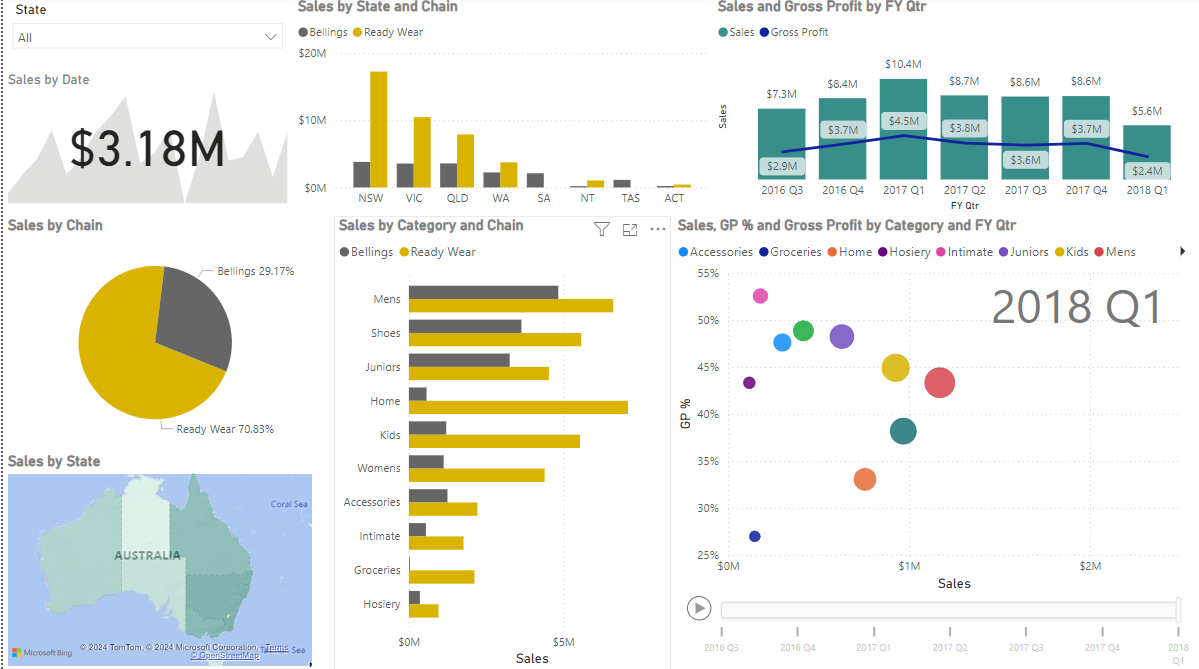

The page's visual inventory and layout, read from the dashboard file:
{"tool":"powerbi","page":{"name":"Summary","canvas":[1280,720],"ordinal":0},"visuals":[{"type":"kpi","fields":{"Indicator":["Sum(Sales.Sales)"],"TrendLine":["Dates.Date"]},"box":[0,80.6,309,145.1],"z":0},{"type":"clusteredColumnChart","fields":{"Y":["Sum(Sales.Sales)"],"Category":["Regions.State"],"Series":["Sales.Chain"]},"box":[309.3,0,449.4,233.4],"z":1000},{"type":"lineClusteredColumnComboChart","fields":{"Category":["Dates.FY Qtr"],"Y":["Sum(Sales.Sales)"],"Y2":["Sum(Sales.Gross Profit)"]},"box":[758.5,0,521.3,233.9],"z":2000},{"type":"pieChart","fields":{"Y":["Sum(Sales.Sales)"],"Category":["Sales.Chain"]},"box":[0,233.7,325.1,252.5],"z":3000},{"type":"filledMap","title":"Sales by State","fields":{"Category":["Regions.State_Country"]},"box":[0,486.3,334.9,233.7],"z":4000},{"type":"clusteredBarChart","fields":{"Y":["Sum(Sales.Sales)"],"Category":["Sales.Category"],"Series":["Sales.Chain"]},"box":[353.1,233.4,360.9,486.3],"z":5000},{"type":"scatterChart","fields":{"X":["Sum(Sales.Sales)"],"Y":["Sales.GF %"],"Series":["Sales.Category"],"Size":["Sum(Sales.Gross Profit)"],"Play":["Dates.FY Qtr"]},"box":[715.9,233.4,564.1,485.3],"z":6000},{"type":"slicer","fields":{"Values":["Regions.State"]},"box":[0,0,309,80.6],"z":7000}]}

Visuals, with their boxes in screenshot pixels (x1, y1, x2, y2), scaled from the page's 1280x720 canvas onto the 1199x669 screenshot:
kpi - Sum(Sales.Sales) x Dates.Date: detection(0, 75, 289, 210)
clusteredColumnChart - Sum(Sales.Sales) x Regions.State: detection(290, 0, 711, 217)
lineClusteredColumnComboChart - Dates.FY Qtr x Sum(Sales.Sales): detection(711, 0, 1198, 217)
pieChart - Sum(Sales.Sales) x Sales.Chain: detection(0, 217, 305, 452)
"Sales by State" filledMap: detection(0, 452, 314, 668)
clusteredBarChart - Sum(Sales.Sales) x Sales.Category: detection(331, 217, 669, 668)
scatterChart - Sum(Sales.Sales) x Sales.GF %: detection(671, 217, 1198, 668)
slicer - Regions.State: detection(0, 0, 289, 75)
